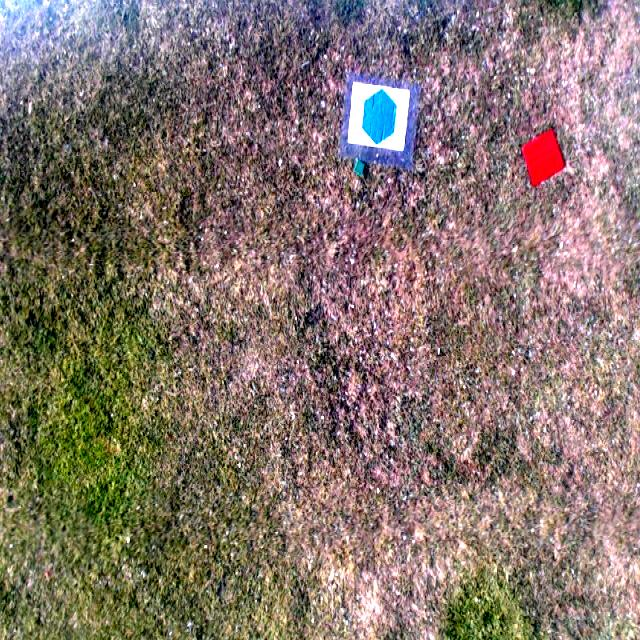blue_hexagon: (361, 88, 398, 145)
red_square: (520, 128, 566, 187)
